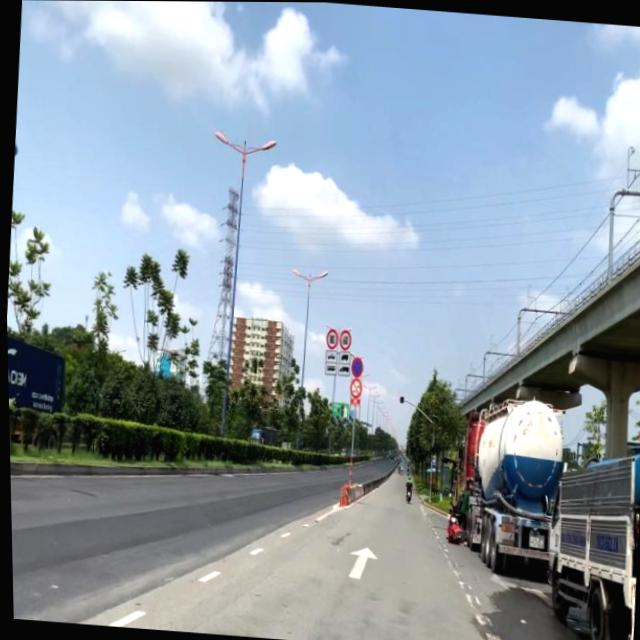Cam dung xe va do xe: (348, 355, 363, 378)
Toc do toi da cho phep: (337, 327, 351, 351), (323, 327, 337, 349)
